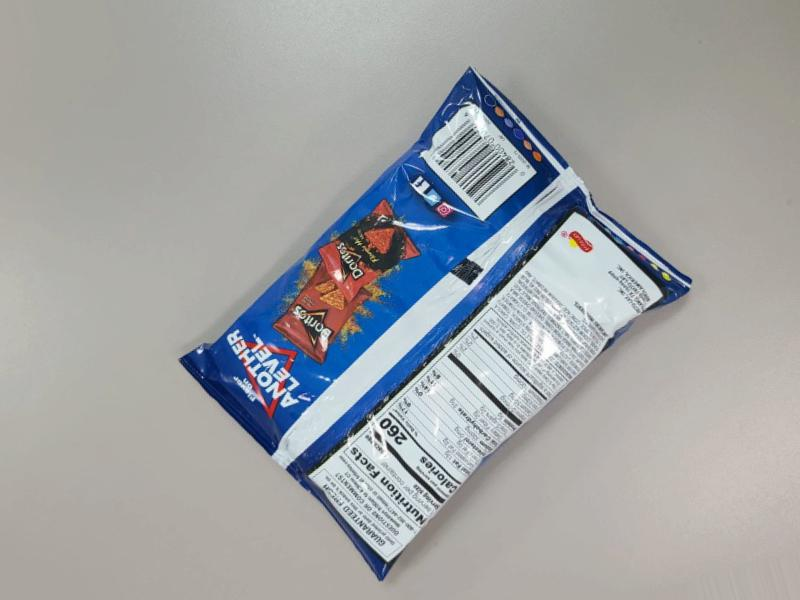doritos: (226, 41, 721, 600)
